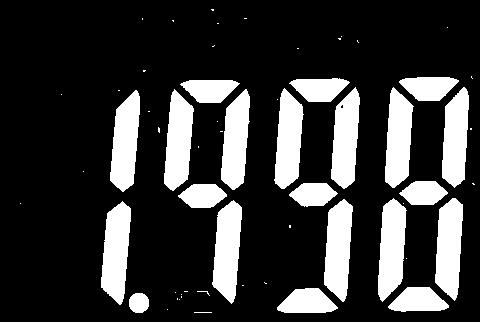1: (95, 88, 143, 308)
8: (376, 75, 472, 316)
9: (161, 77, 254, 316), (271, 77, 363, 316)
dot: (128, 290, 151, 316)
